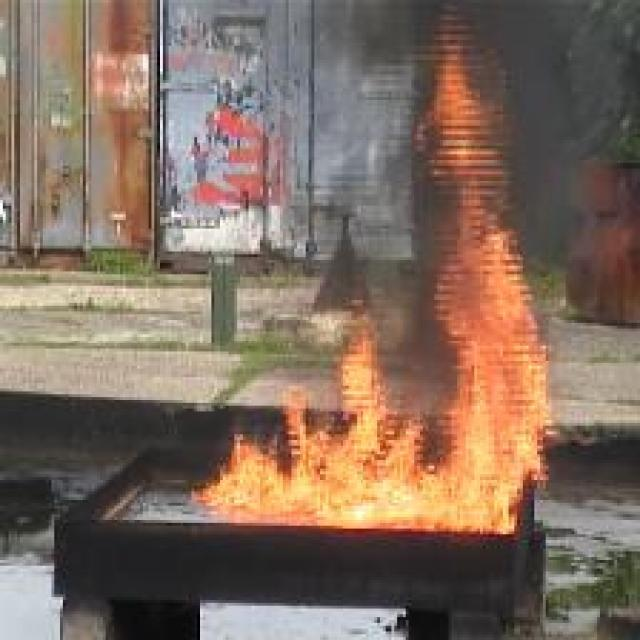Fire: (189, 4, 562, 536)
